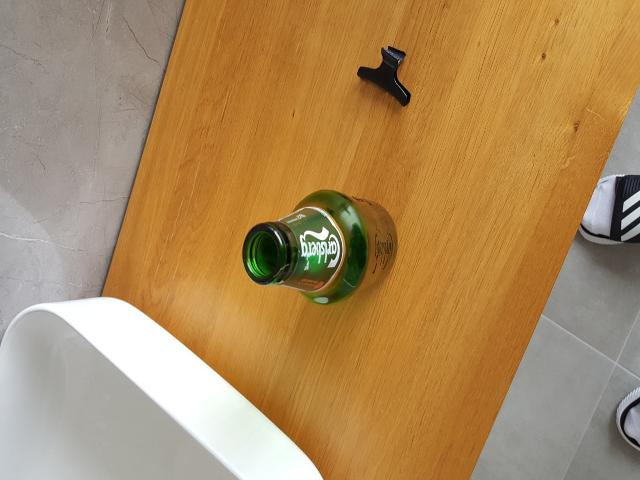beer: (243, 189, 397, 306)
